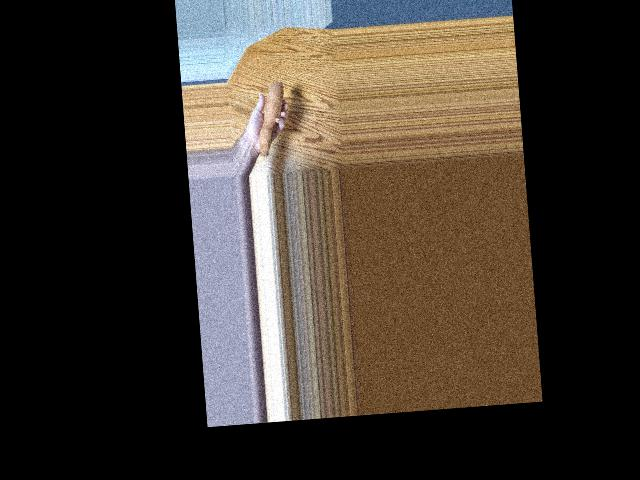sweet_potato: (254, 80, 291, 164)
